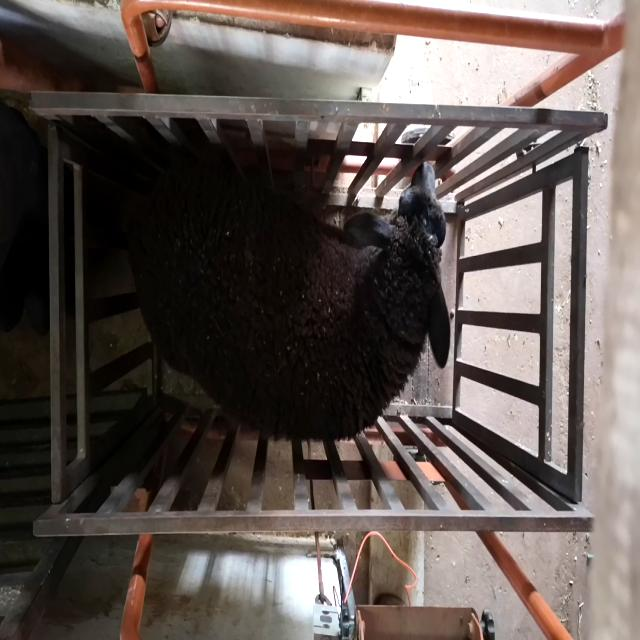sheep: (127, 151, 450, 442)
